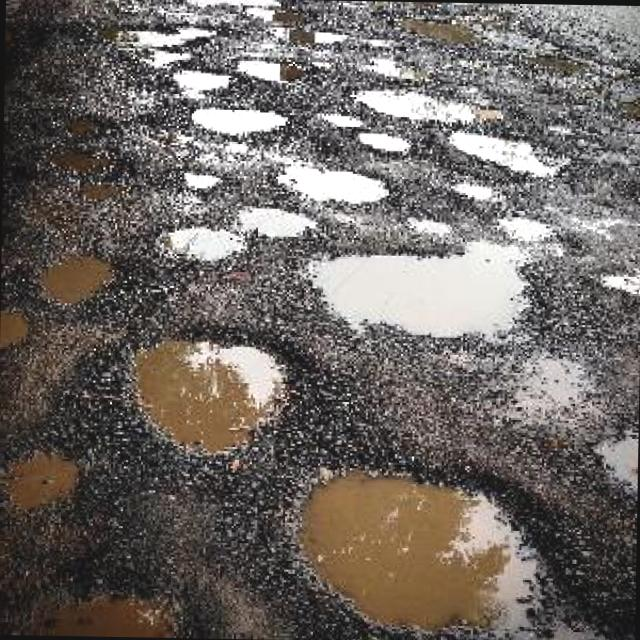Lubang: (288, 471, 548, 640), (302, 229, 544, 336), (125, 332, 292, 461), (0, 576, 226, 635), (148, 216, 245, 270), (449, 131, 555, 176), (278, 164, 388, 202), (120, 26, 216, 68), (355, 92, 475, 123), (11, 453, 77, 508), (43, 256, 112, 302), (191, 108, 287, 134), (238, 208, 315, 236), (595, 439, 638, 489), (237, 60, 303, 81), (0, 311, 26, 347), (358, 134, 411, 151), (173, 74, 229, 90), (184, 173, 220, 188)
